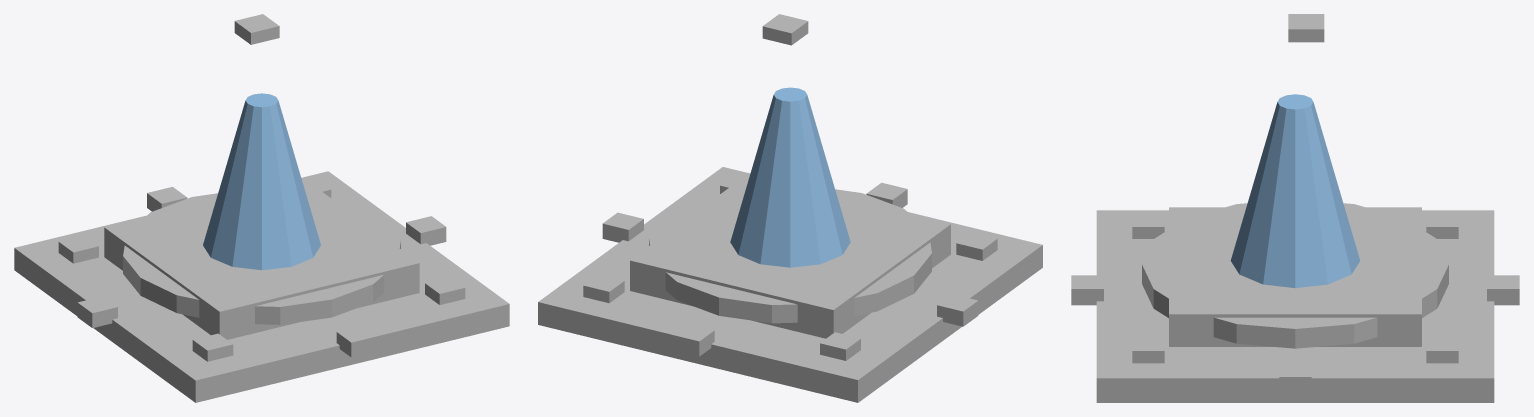
The model's file is fountain.glb.
3 renders of one model, left to right at view 1: azimuth 30°, elevation 25°; view 2: azimuth 150°, elevation 25°; view 3: azimuth 270°, elevation 25°, orthographic. The views are drawn at different scales.
Parts seen in each view (by area): view 1: fountain_base.001, fountain_sump.001, fountain_air.001, fountain_ring.001, fountain_kancing.001, fountain_tepi6.001, fountain_tepi4.001, fountain_tepi0.001, fountain_tepi5.001, fountain_tepi3.001, fountain_tepi7.001, fountain_tepi2.001; view 2: fountain_base.001, fountain_sump.001, fountain_air.001, fountain_ring.001, fountain_kancing.001, fountain_tepi2.001, fountain_tepi4.001, fountain_tepi0.001, fountain_tepi1.001, fountain_tepi5.001, fountain_tepi3.001, fountain_tepi6.001; view 3: fountain_base.001, fountain_sump.001, fountain_air.001, fountain_ring.001, fountain_kancing.001, fountain_tepi0.001, fountain_tepi2.001, fountain_tepi6.001, fountain_tepi1.001, fountain_tepi7.001, fountain_tepi3.001, fountain_tepi5.001.
Part boxes in pixels (x1,y1,x2,y2): fountain_base.001: (14,171,509,402); fountain_sump.001: (104,178,419,339); fountain_air.001: (203,93,320,270); fountain_ring.001: (123,193,400,324); fountain_kancing.001: (234,14,279,44); fountain_tepi6.001: (336,325,376,357); fountain_tepi4.001: (77,296,117,327); fountain_tepi0.001: (406,216,446,245); fountain_tepi5.001: (192,333,233,361); fountain_tepi3.001: (58,235,98,263); fountain_tepi7.001: (425,277,465,304); fountain_tepi2.001: (147,187,187,211); fountain_base.001: (538,167,1042,402); fountain_sump.001: (630,174,950,338); fountain_air.001: (730,87,850,267); fountain_ring.001: (649,189,931,323); fountain_kancing.001: (762,14,808,45); fountain_tepi2.001: (673,324,714,356); fountain_tepi4.001: (937,294,978,326); fountain_tepi0.001: (602,212,643,242); fountain_tepi1.001: (583,274,624,303); fountain_tepi5.001: (956,232,997,260); fountain_tepi3.001: (820,332,860,360); fountain_tepi6.001: (866,182,907,207); fountain_base.001: (1096,210,1494,402); fountain_sump.001: (1169,207,1421,346); fountain_air.001: (1230,94,1360,288); fountain_ring.001: (1142,203,1448,348); fountain_kancing.001: (1288,14,1324,42); fountain_tepi0.001: (1279,363,1311,393); fountain_tepi2.001: (1487,275,1519,305); fountain_tepi6.001: (1071,275,1103,305); fountain_tepi1.001: (1426,337,1458,363); fountain_tepi7.001: (1132,337,1164,363); fountain_tepi3.001: (1426,213,1458,238); fountain_tepi5.001: (1132,213,1164,238).
Bounding box in the file's own units: 2.48 × 2.28 × 2.48.
